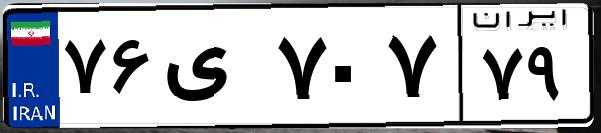0: (330, 28, 385, 110)
6: (110, 28, 158, 98)
7: (270, 28, 330, 110), (385, 28, 445, 110), (57, 26, 110, 100), (475, 38, 525, 113)
9: (525, 38, 570, 115)
ی: (158, 20, 270, 120)
